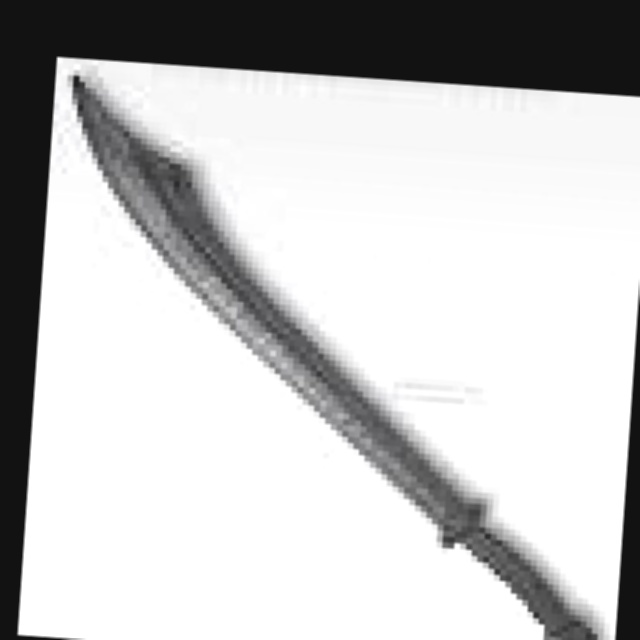Sharp-Object: (33, 58, 640, 640)
